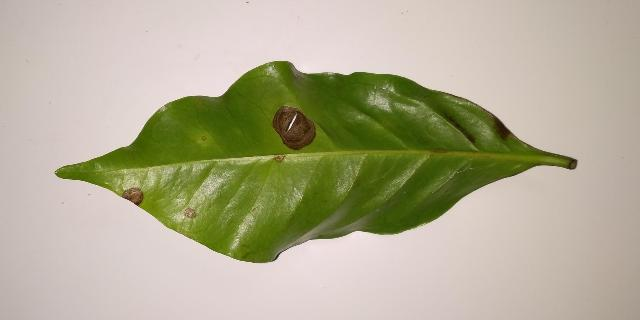rust: (272, 106, 315, 150), (485, 110, 516, 138), (121, 188, 143, 207), (184, 208, 195, 218), (274, 154, 286, 161)
